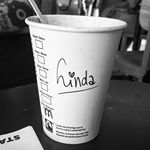cups: (22, 12, 129, 146)
